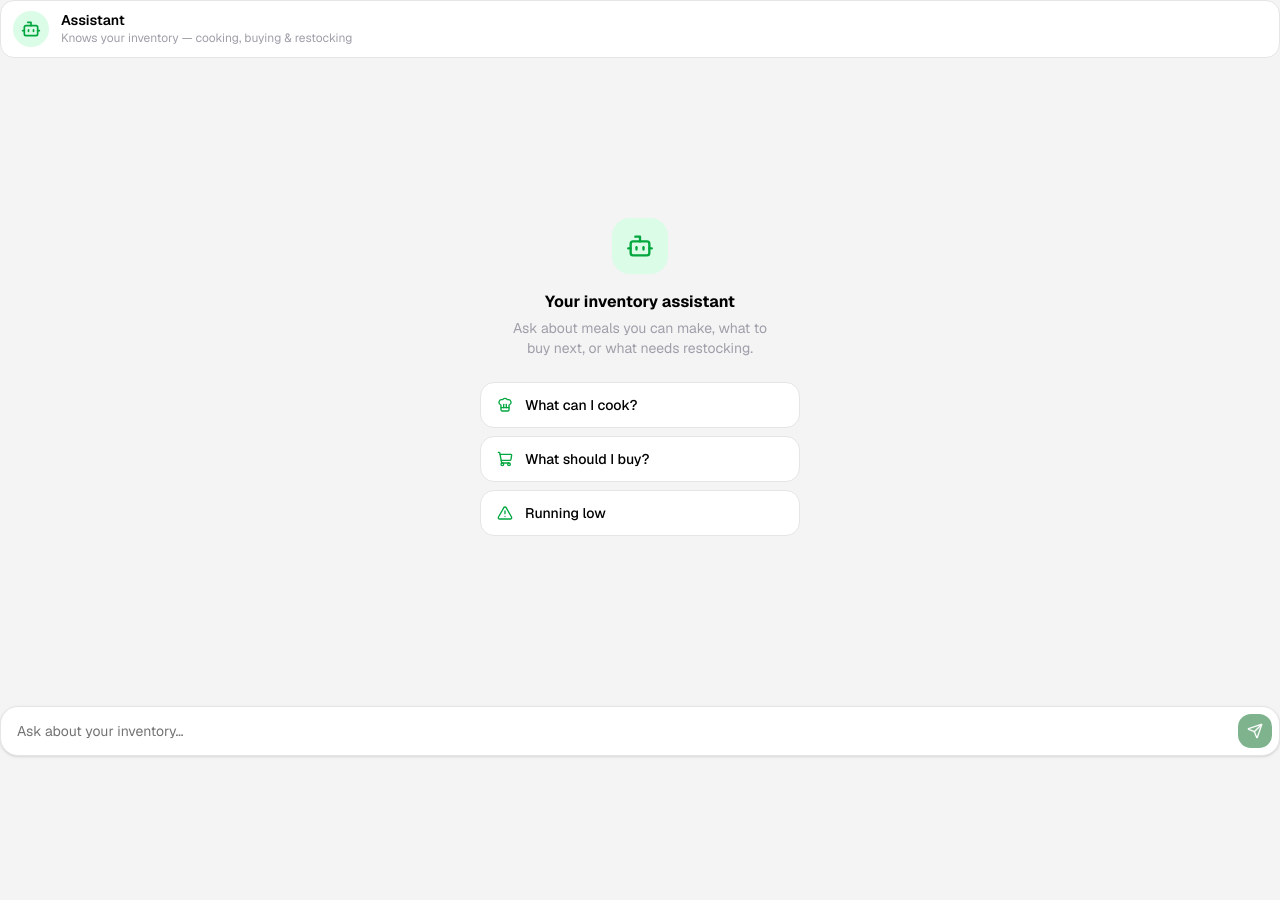
Test case: AssistantClient › Sending a question › sends the prompt when clicking a suggestion card
What coordinates should you click on to do the following:
click the button "What can I cook?"
I would click on:
 (640, 404)
Its box is [480,382,800,428].
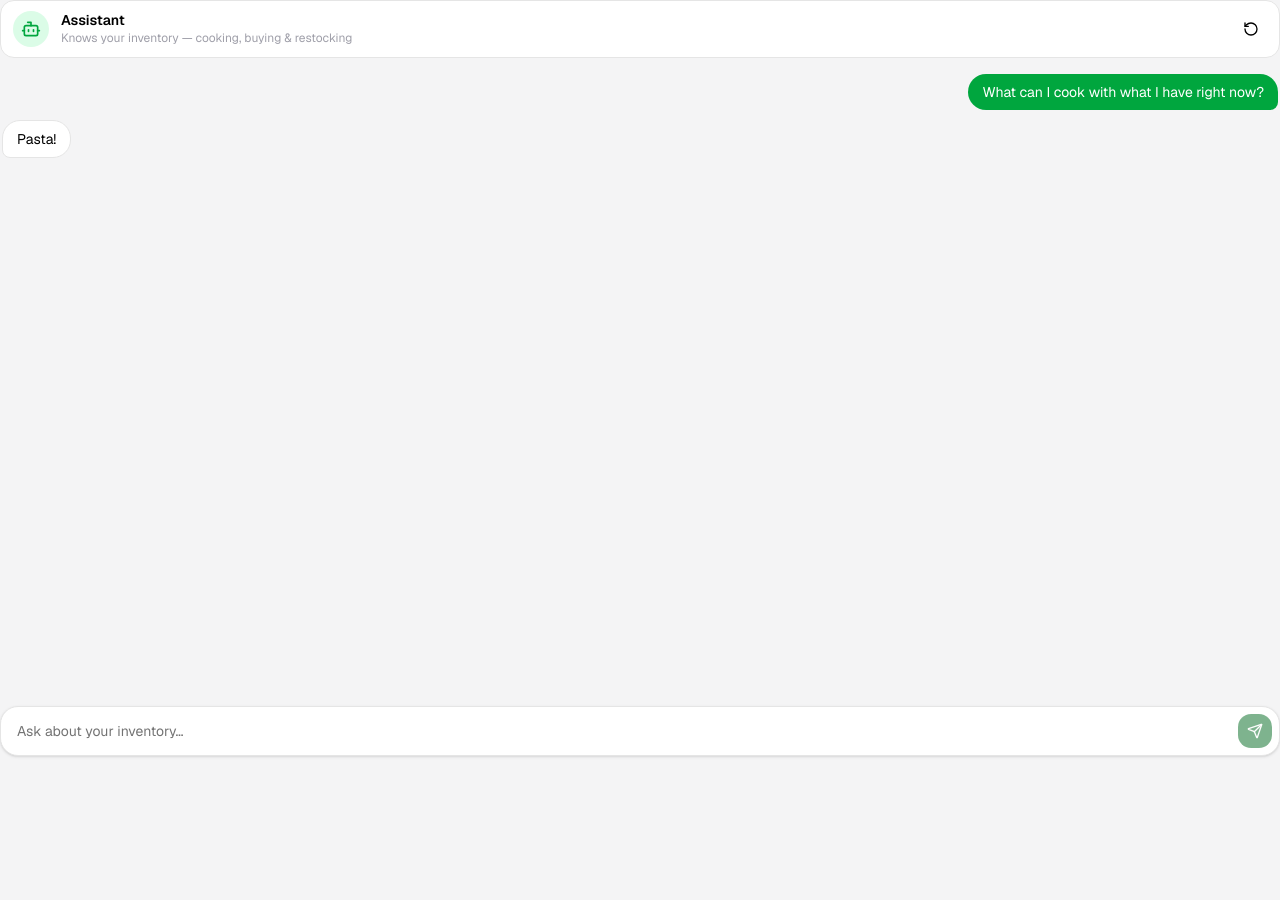
Now the text "Pasta!" is shown, box [2,120,71,158]
